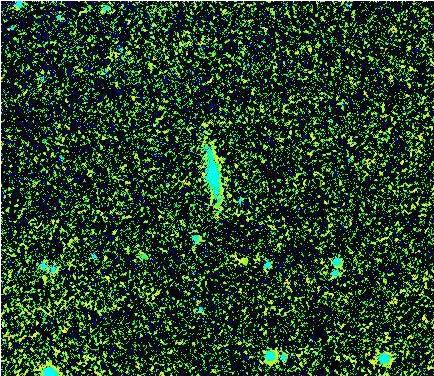star: (227, 245, 257, 275)
